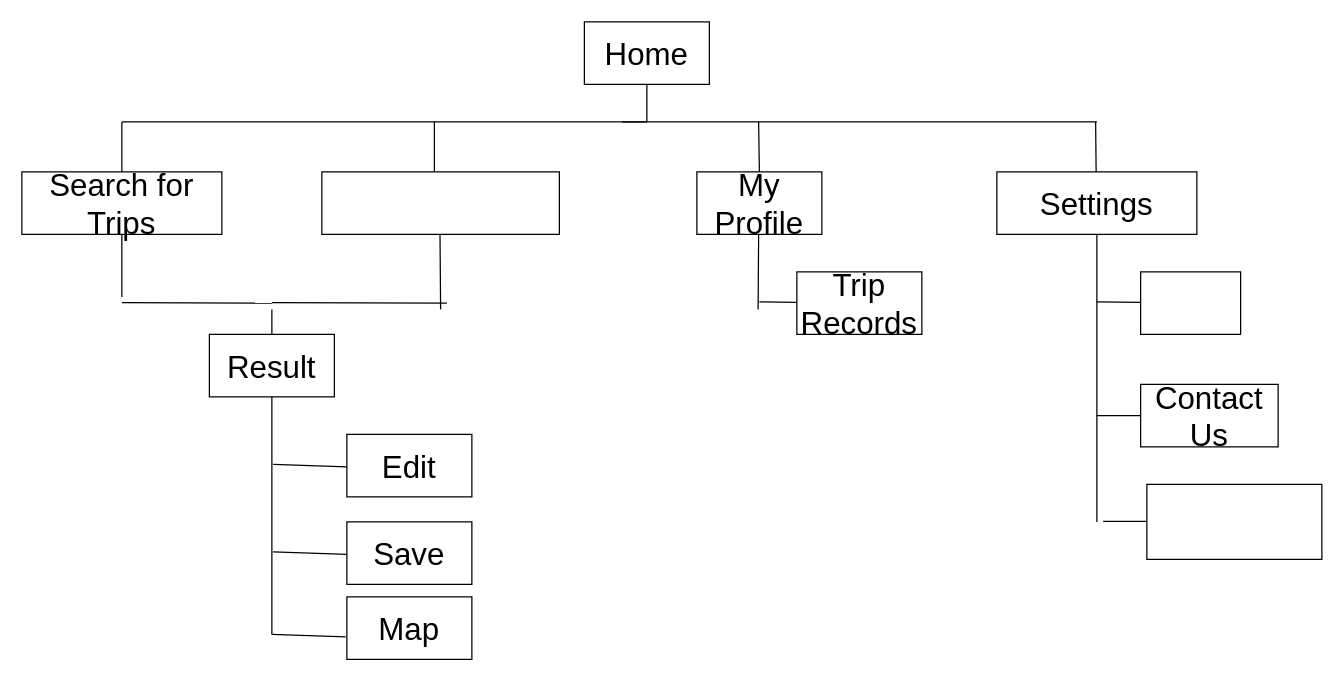
The diagram is 1344 pixels wide and 681 high, and some of its shapes have lost their labels. The centre of each missing label's shape, as x and y in pixels:
"FAQ" goes at (x=1190, y=302).
"Log in/Log out" goes at (x=1234, y=521).
"Recommended Trips" goes at (x=440, y=202).
